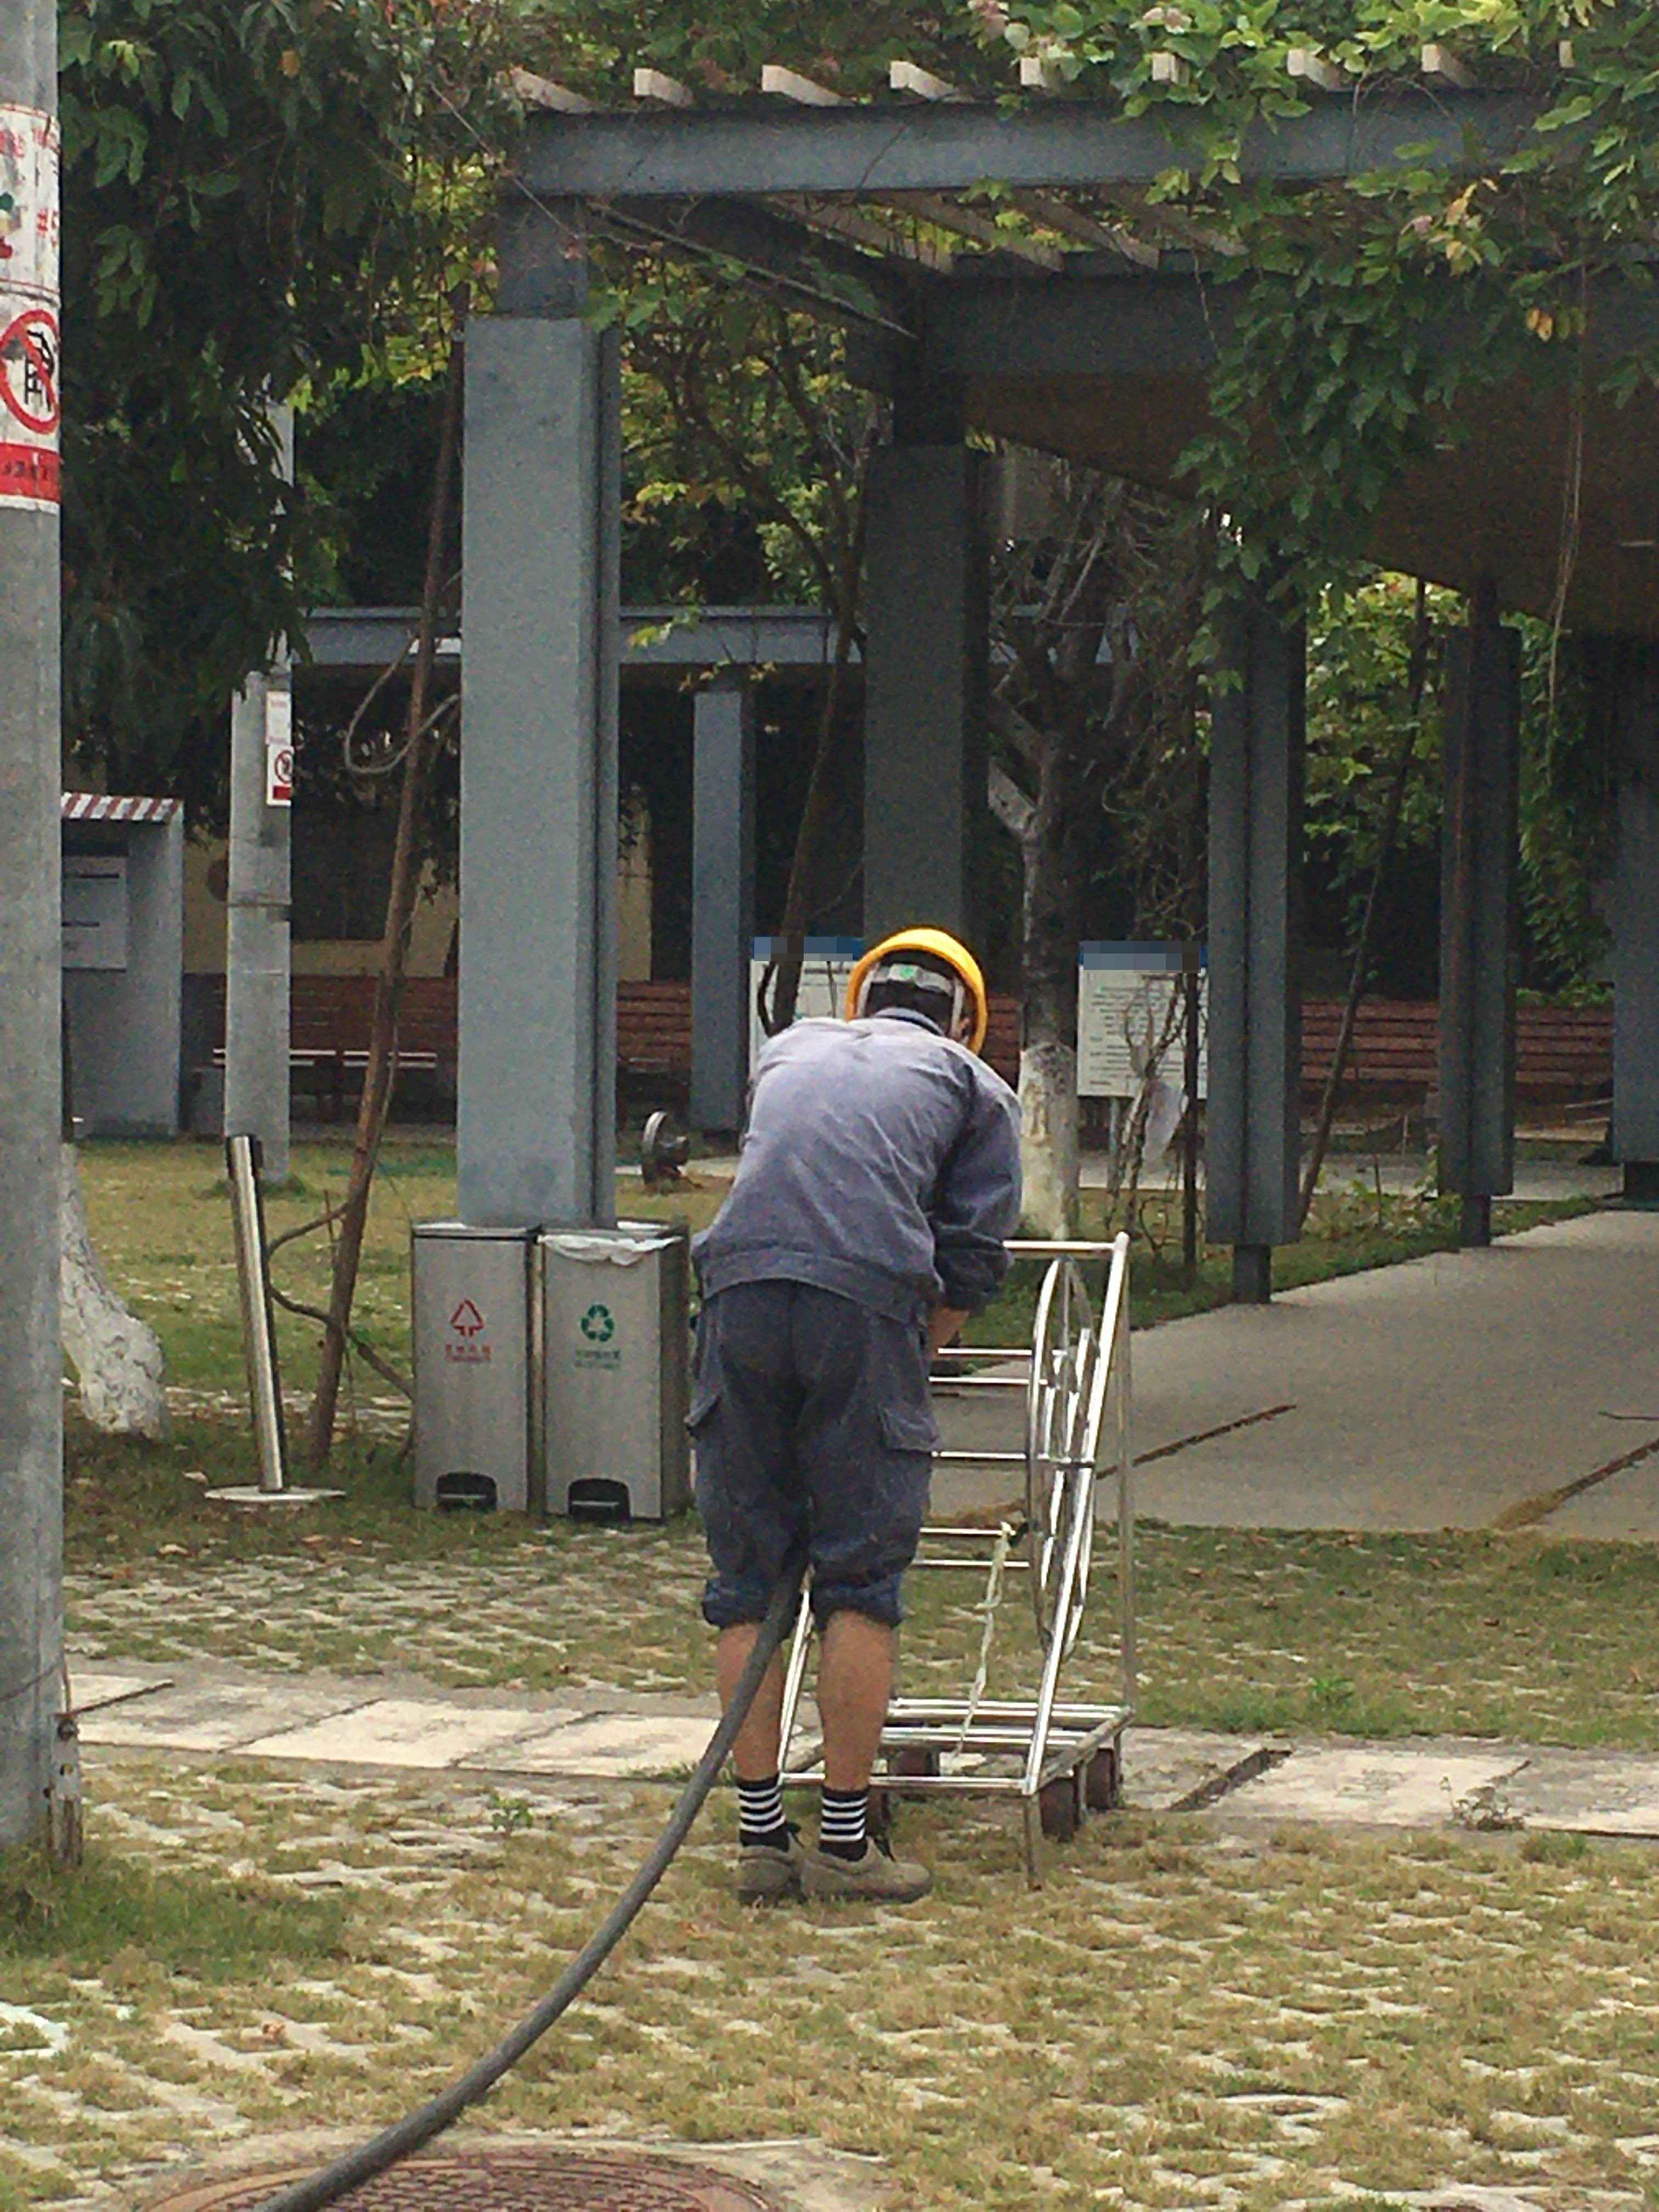downsuit: (688, 1298, 941, 1639)
upsuit: (690, 1012, 1033, 1285)
wrongbottom: (687, 1576, 911, 1831)
